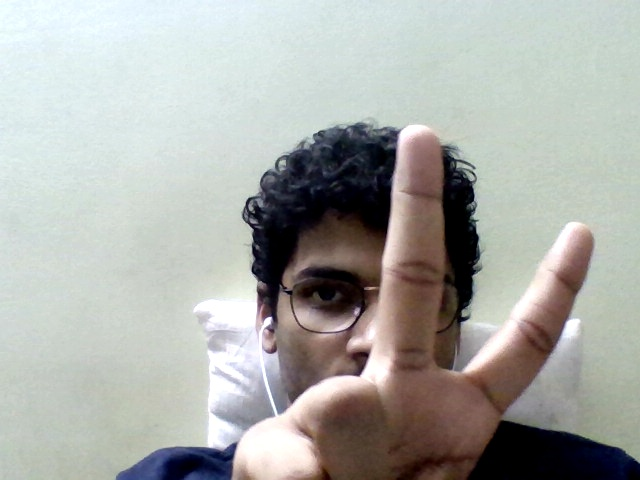ThankYou: (382, 124, 601, 412)
